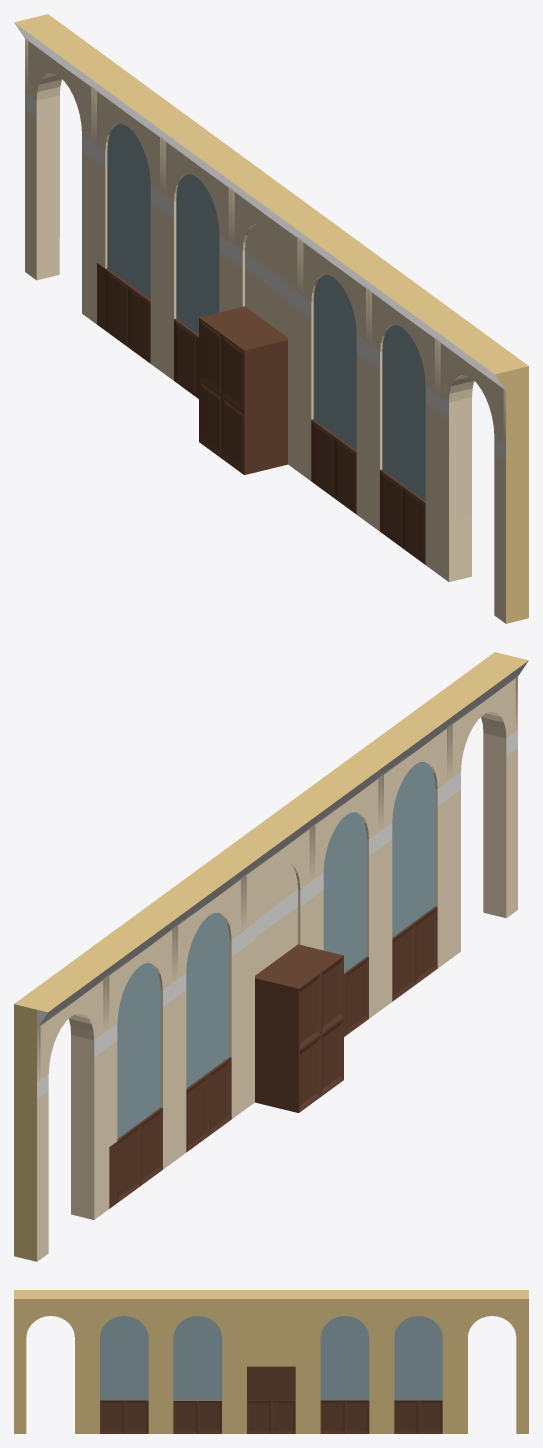
The model's file is SallePasPerdus_Mur01.fbx.
3 views of the same model, one above another, from view 1: azimuth 30°, elevation 25°; view 2: azimuth 150°, elevation 25°; view 3: azimuth 270°, elevation 25° (orthographic). The views are drawn at different scales.
Parts seen in each view (by area): view 1: Mur01; view 2: Mur01; view 3: Mur01.
Boxes of the visible parts, left/top/right/bottom form: Mur01: left=14, top=14, right=528, bottom=623; Mur01: left=14, top=652, right=528, bottom=1261; Mur01: left=14, top=1290, right=528, bottom=1433.
Size of the model in its own units: 1.65 by 5.94 by 20.55.
